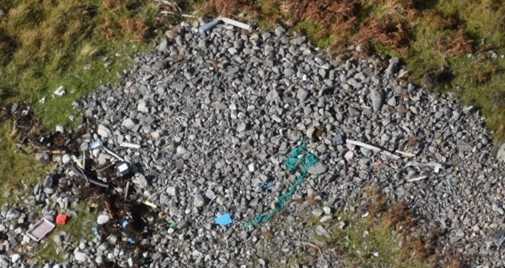net: (276, 138, 319, 205)
straight_bar: (219, 13, 254, 36)
together_barrel: (20, 124, 140, 246)
tube: (347, 134, 401, 160)
white_in_green: (199, 199, 245, 240)
